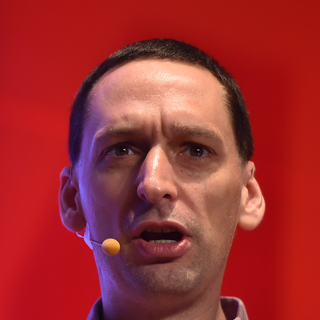eye: (93, 134, 147, 167), (172, 134, 220, 167)
